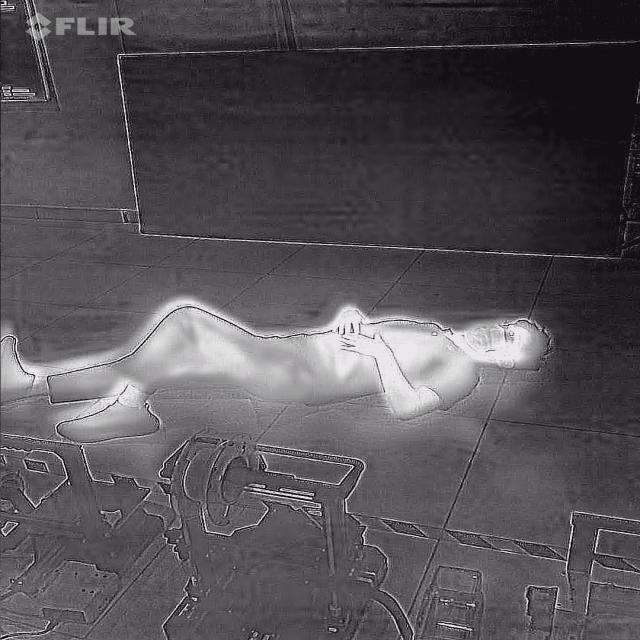Victim: (3, 298, 560, 446)
